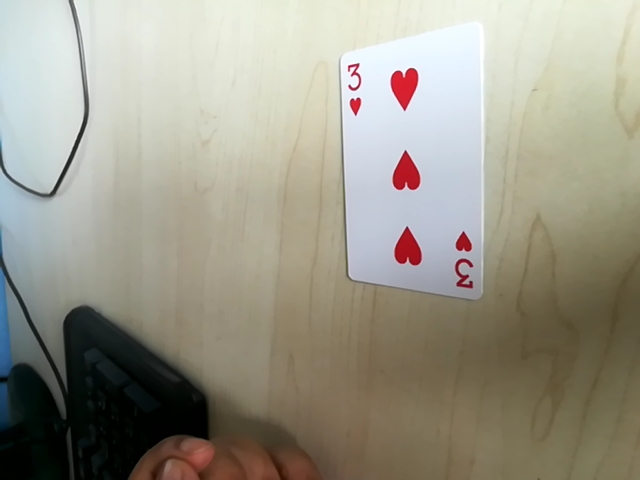hx 3: (452, 234, 484, 301), (336, 54, 366, 114)
